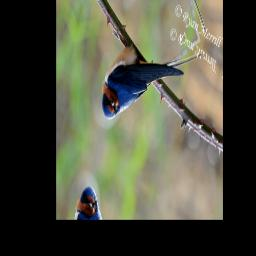Swallow: (96, 0, 203, 172)
